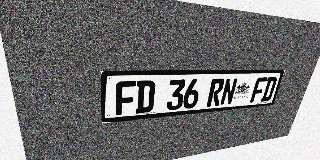3: (166, 79, 186, 111)
6: (182, 79, 202, 109)
D: (135, 80, 156, 114), (260, 77, 278, 102)
F: (115, 81, 136, 115), (250, 77, 268, 103)
N: (220, 78, 238, 105)
R: (206, 78, 225, 107)
